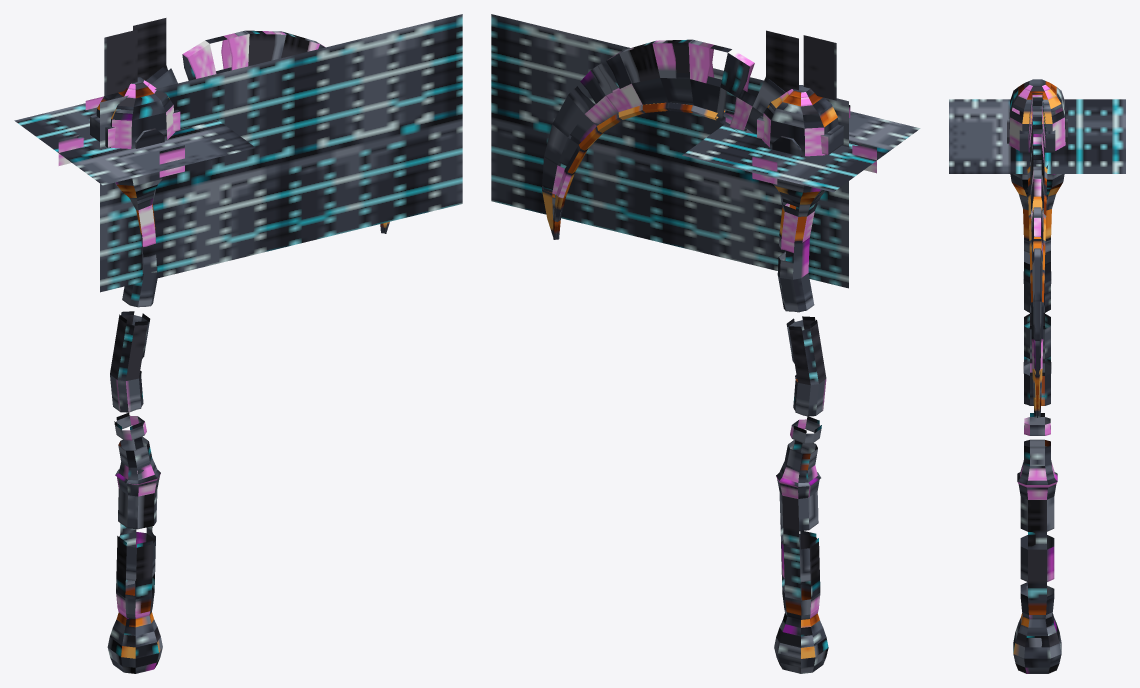
Rendered from neon_reaper_scythe.obj.
The picture shows the model from 3 angles, left to right: view 1: azimuth 30°, elevation 25°; view 2: azimuth 150°, elevation 25°; view 3: azimuth 270°, elevation 25°; orthographic projection.
Visible parts, largest first — view 1: slash, snath, rune_ring, blade, wisp0, wisp1; view 2: slash, snath, blade, rune_ring, edge, wisp0, wisp1; view 3: snath, rune_ring, blade, edge, vent1.
Part boxes in pixels (left/top/right/bottom): slash: left=100, top=14, right=462, bottom=292; snath: left=96, top=77, right=175, bottom=673; rune_ring: left=14, top=103, right=255, bottom=185; blade: left=146, top=30, right=389, bottom=233; wisp0: left=104, top=29, right=137, bottom=95; wisp1: left=133, top=18, right=166, bottom=80; slash: left=491, top=14, right=848, bottom=288; snath: left=762, top=85, right=838, bottom=673; blade: left=542, top=39, right=785, bottom=239; rune_ring: left=682, top=111, right=920, bottom=192; edge: left=553, top=102, right=752, bottom=239; wisp0: left=803, top=35, right=836, bottom=100; wisp1: left=766, top=30, right=798, bottom=92; snath: left=1009, top=79, right=1065, bottom=673; rune_ring: left=949, top=99, right=1125, bottom=173; blade: left=1028, top=93, right=1046, bottom=417; edge: left=1027, top=160, right=1047, bottom=417; vent1: left=1019, top=130, right=1055, bottom=174.
Size of the model in its own units: 28.5 by 43.6 by 11.
1 material, 1 textured.
